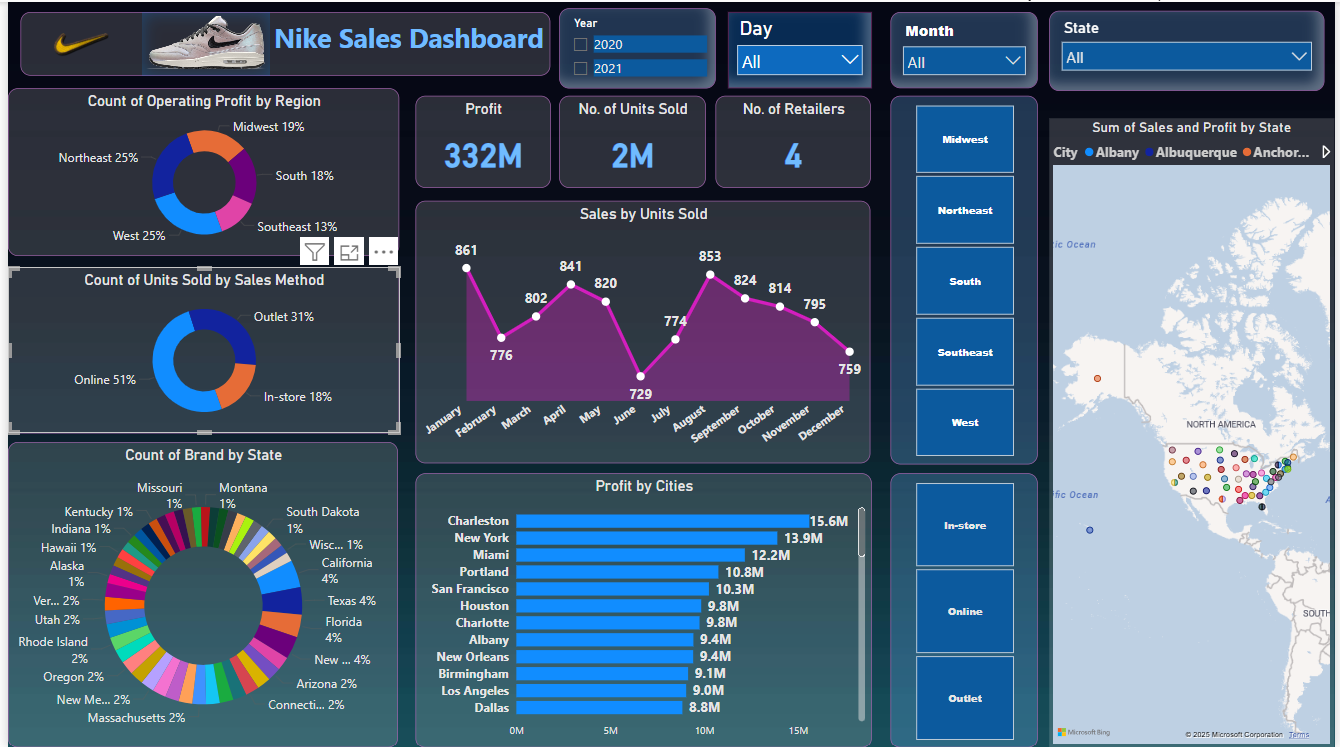

This screenshot's page, from the dashboard's own definition file:
{"tool":"powerbi","page":{"name":"Page 1","canvas":[1280,720],"ordinal":0},"visuals":[{"type":"lineChart","title":"Sales by Units Sold","fields":{"Category":["Data Sales Nike.Invoice Date.Variation.Date Hierarchy.Month"],"Y":["CountNonNull(Data Sales Nike.Units Sold)"]},"box":[289.6,193.9,531.3,251.5],"z":0},{"type":"barChart","title":"Profit by Cities","fields":{"Y":["Sum(Data Sales Nike.Operating Profit)"],"Category":["Data Sales Nike.City"]},"box":[288.3,456.4,532.5,245.4],"z":1000},{"type":"map","title":"Sum of Sales and  Profit by State","fields":{"Category":["Data Sales Nike.State"],"Series":["Data Sales Nike.City"]},"box":[1000.1,12.1,267.8,454.8],"z":2000},{"type":"donutChart","fields":{"Category":["Data Sales Nike.Sales Method"],"Y":["CountNonNull(Data Sales Nike.Units Sold)"]},"box":[14.5,291.9,259.3,193],"z":3000},{"type":"donutChart","fields":{"Category":["Data Sales Nike.State"],"Y":["CountNonNull(Data Sales Nike.Brand)"]},"box":[14.5,498.3,259.4,203.9],"z":4000},{"type":"slicer","fields":{"Values":["Data Sales Nike.Invoice Date.Variation.Date Hierarchy.Year"]},"box":[634.6,12.1,185.8,70],"z":5000},{"type":"textbox","box":[14.5,12.1,579.1,70],"z":6000},{"type":"card","title":"Profit","fields":{"Values":["Sum(Data Sales Nike.Operating Profit)"]},"box":[288.3,90.8,171.8,96.9],"z":7000},{"type":"card","title":"No. of Units Sold","fields":{"Values":["Sum(Data Sales Nike.Units Sold)"]},"box":[472.4,90.8,162,96.9],"z":8000},{"type":"card","title":"No. of Retailers","fields":{"Values":["Count(Data Sales Nike.Retailer ID)"]},"box":[640.5,90.8,179.1,96.9],"z":9000},{"type":"donutChart","fields":{"Category":["Data Sales Nike.Region"],"Y":["CountNonNull(Data Sales Nike.Operating Profit)"]},"box":[14.5,91.7,259.3,191.8],"z":10000},{"type":"slicer","fields":{"Values":["Data Sales Nike.Region"]},"box":[834.4,92,153.4,353.4],"z":11000},{"type":"image","box":[90.5,12.1,165.3,70],"z":12000},{"type":"slicer","fields":{"Values":["Data Sales Nike.Sales Method"]},"box":[834.4,456.4,153.4,245.4],"z":13000},{"type":"image","box":[14.5,12.1,85.7,70],"z":14000},{"type":"slicer","fields":{"Values":["Data Sales Nike.Invoice Date.Variation.Date Hierarchy.Month"]},"box":[834.9,12.1,153.2,70],"z":14001},{"type":"slicer","fields":{"Values":["Data Sales Nike.Invoice Date.Variation.Date Hierarchy.Day"]},"box":[1000.1,485,266.6,105],"z":14002},{"type":"slicer","fields":{"Values":["Data Sales Nike.State"]},"box":[1000.1,600.8,258.2,100.1],"z":14003}]}

Visuals, with their boxes in screenshot pixels (x1, y1, x2, y2), scaled from the page's 1280x720 canvas onto the 1340x747 screenshot:
"Sales by Units Sold" lineChart: {"x1": 303, "y1": 201, "x2": 859, "y2": 462}
"Profit by Cities" barChart: {"x1": 302, "y1": 474, "x2": 859, "y2": 728}
"Sum of Sales and  Profit by State" map: {"x1": 1047, "y1": 13, "x2": 1327, "y2": 484}
donutChart - Data Sales Nike.Sales Method x CountNonNull(Data Sales Nike.Units Sold): {"x1": 15, "y1": 303, "x2": 287, "y2": 503}
donutChart - Data Sales Nike.State x CountNonNull(Data Sales Nike.Brand): {"x1": 15, "y1": 517, "x2": 287, "y2": 729}
slicer - Data Sales Nike.Invoice Date.Variation.Date Hierarchy.Year: {"x1": 664, "y1": 13, "x2": 859, "y2": 85}
textbox: {"x1": 15, "y1": 13, "x2": 621, "y2": 85}
"Profit" card: {"x1": 302, "y1": 94, "x2": 482, "y2": 195}
"No. of Units Sold" card: {"x1": 495, "y1": 94, "x2": 664, "y2": 195}
"No. of Retailers" card: {"x1": 671, "y1": 94, "x2": 858, "y2": 195}
donutChart - Data Sales Nike.Region x CountNonNull(Data Sales Nike.Operating Profit): {"x1": 15, "y1": 95, "x2": 287, "y2": 294}
slicer - Data Sales Nike.Region: {"x1": 874, "y1": 95, "x2": 1034, "y2": 462}
image: {"x1": 95, "y1": 13, "x2": 268, "y2": 85}
slicer - Data Sales Nike.Sales Method: {"x1": 874, "y1": 474, "x2": 1034, "y2": 728}
image: {"x1": 15, "y1": 13, "x2": 105, "y2": 85}
slicer - Data Sales Nike.Invoice Date.Variation.Date Hierarchy.Month: {"x1": 874, "y1": 13, "x2": 1034, "y2": 85}
slicer - Data Sales Nike.Invoice Date.Variation.Date Hierarchy.Day: {"x1": 1047, "y1": 503, "x2": 1326, "y2": 612}
slicer - Data Sales Nike.State: {"x1": 1047, "y1": 623, "x2": 1317, "y2": 727}
